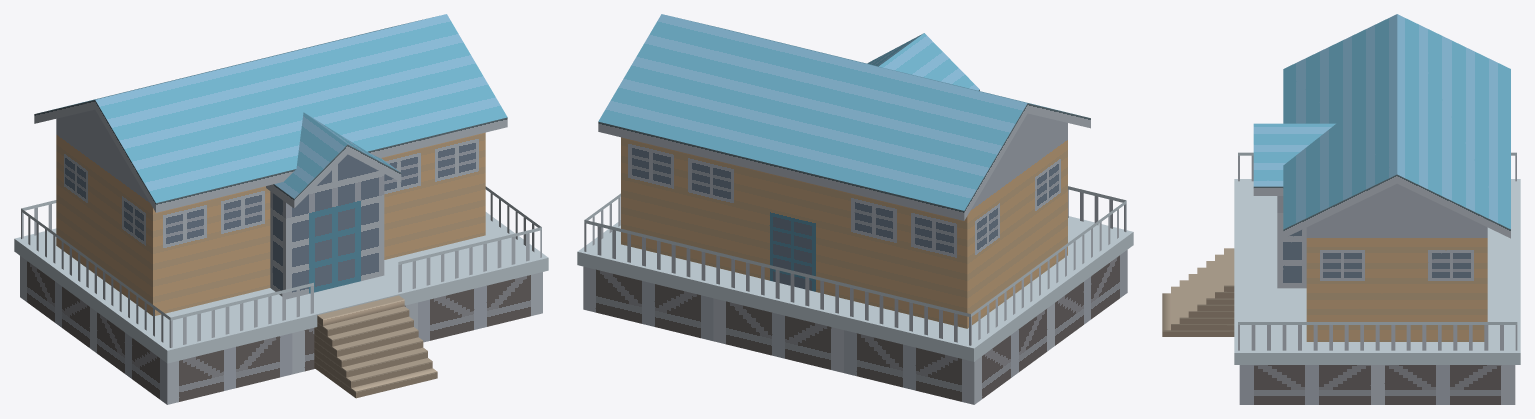
The model's file is 009a_Boathouse.glb.
3 renders of one model, left to right at view 1: azimuth 30°, elevation 25°; view 2: azimuth 150°, elevation 25°; view 3: azimuth 270°, elevation 25°, orthographic. The views are drawn at different scales.
Parts seen in each view (by area): view 1: part_0; view 2: part_0; view 3: part_0.
Part boxes in pixels (x1=…): part_0: x1=14, y1=14, x2=548, y2=404; part_0: x1=577, y1=14, x2=1133, y2=404; part_0: x1=1162, y1=14, x2=1520, y2=404.
Size of the model in its own units: 14 by 8.44 by 12.2.
Materials: 1 (1 with a texture image).
